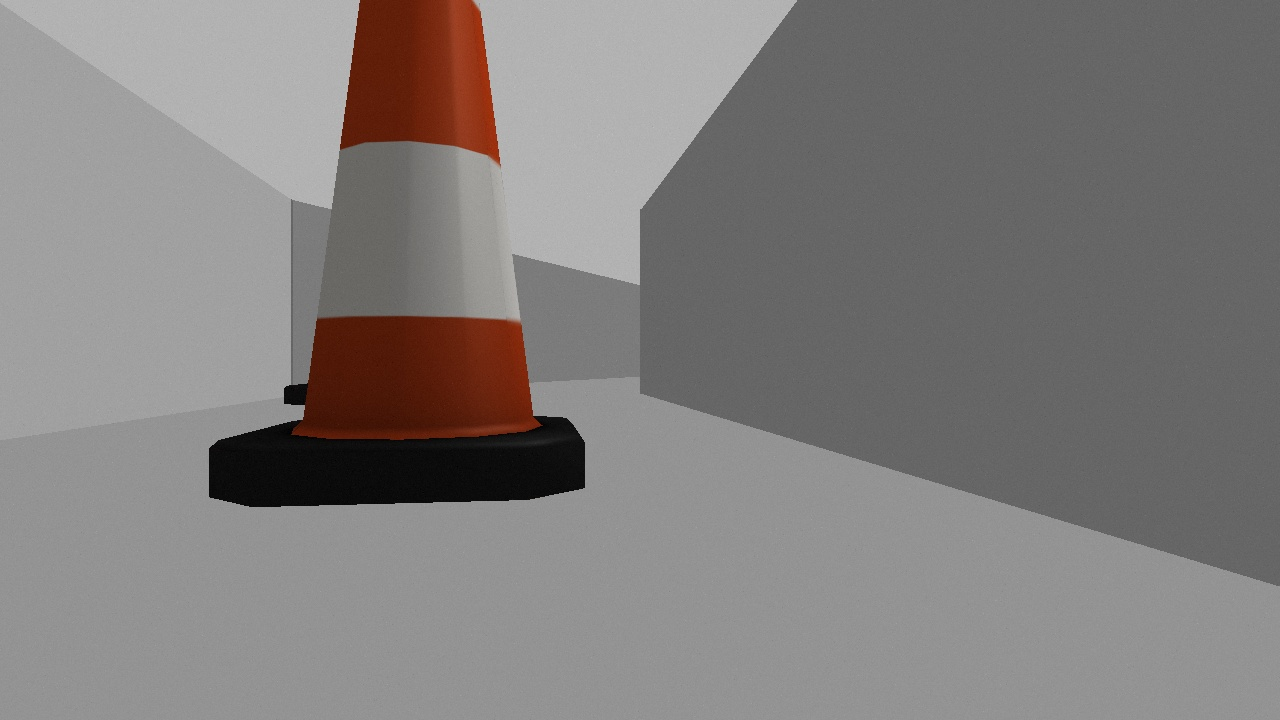barricade: (207, 1, 584, 506)
